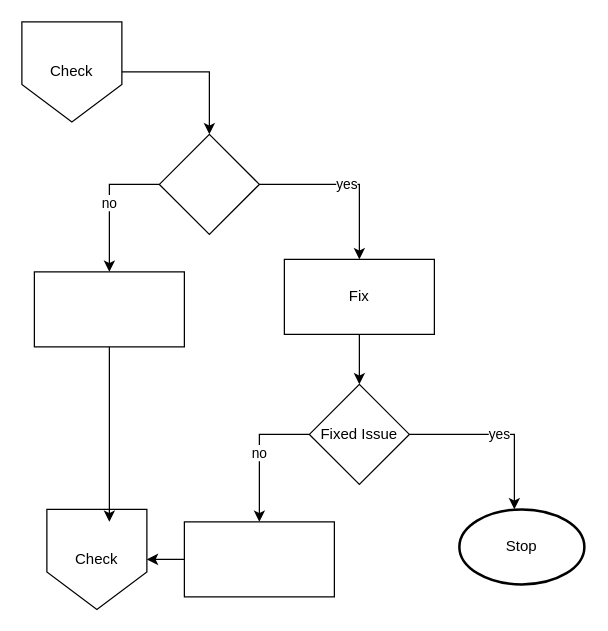
The diagram is 608 pixels wide and 631 high, and some of its shapes have lost their labels. Each missing label, with the centre of its shape:
Check Something Else: the point at 258,559
Don't Bother: the point at 108,309
Valid Issue: the point at 208,183
